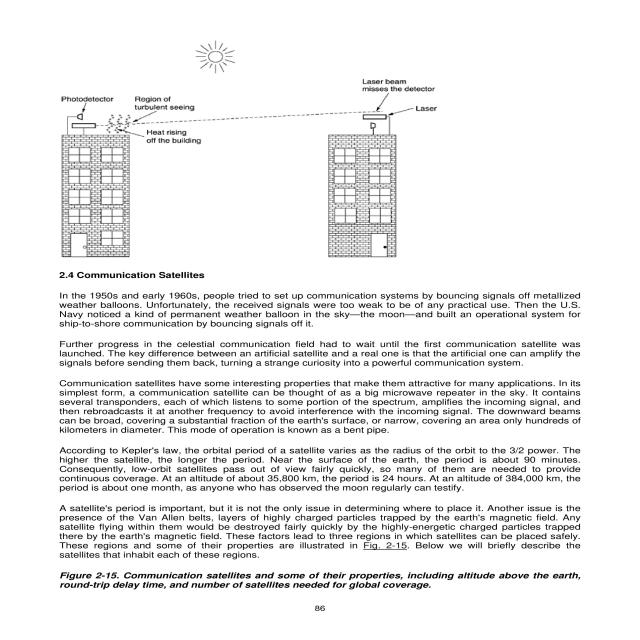diagram: (31, 23, 472, 263)
